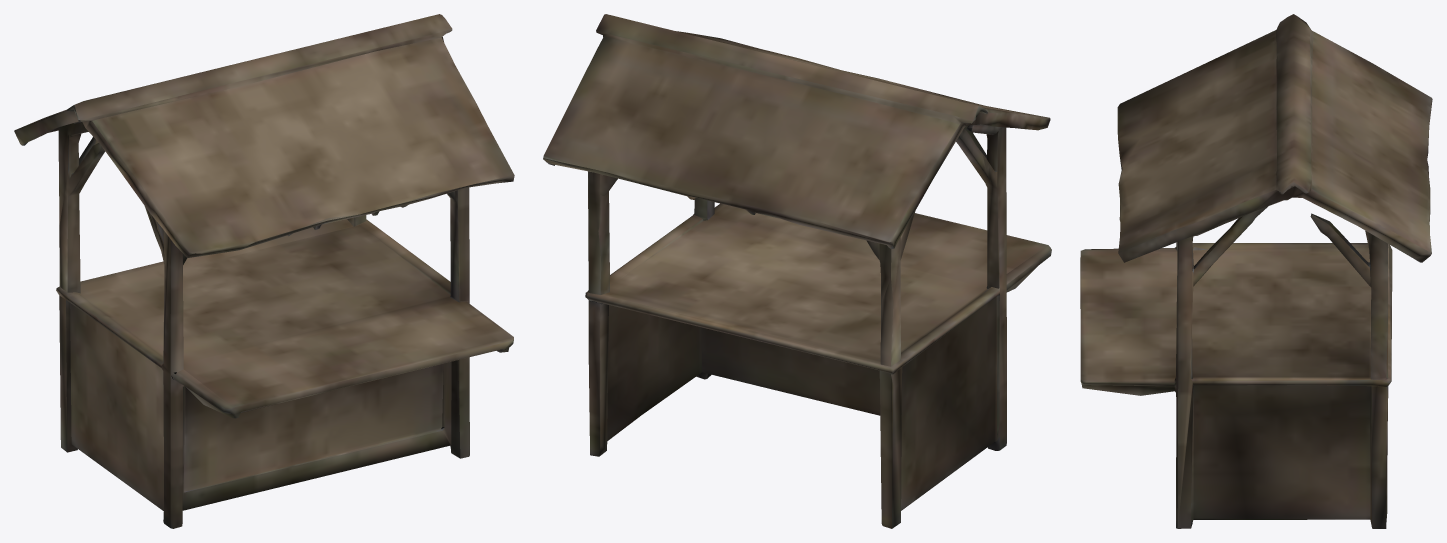
Rendered from plain-wood-market-stall-v003.glb.
The picture shows the model from 3 angles, left to right: view 1: azimuth 30°, elevation 25°; view 2: azimuth 150°, elevation 25°; view 3: azimuth 270°, elevation 25°; orthographic projection. The views are drawn at different scales.
Visible parts, largest first — view 1: plain-wood-market-stall; view 2: plain-wood-market-stall; view 3: plain-wood-market-stall.
Part boxes in pixels (bbox=[...]): plain-wood-market-stall: bbox=[14, 14, 514, 528]; plain-wood-market-stall: bbox=[543, 14, 1051, 528]; plain-wood-market-stall: bbox=[1080, 14, 1432, 528].
Bounding box in the file's own units: 2.43 × 2.41 × 2.11.
1 material, 1 textured.
